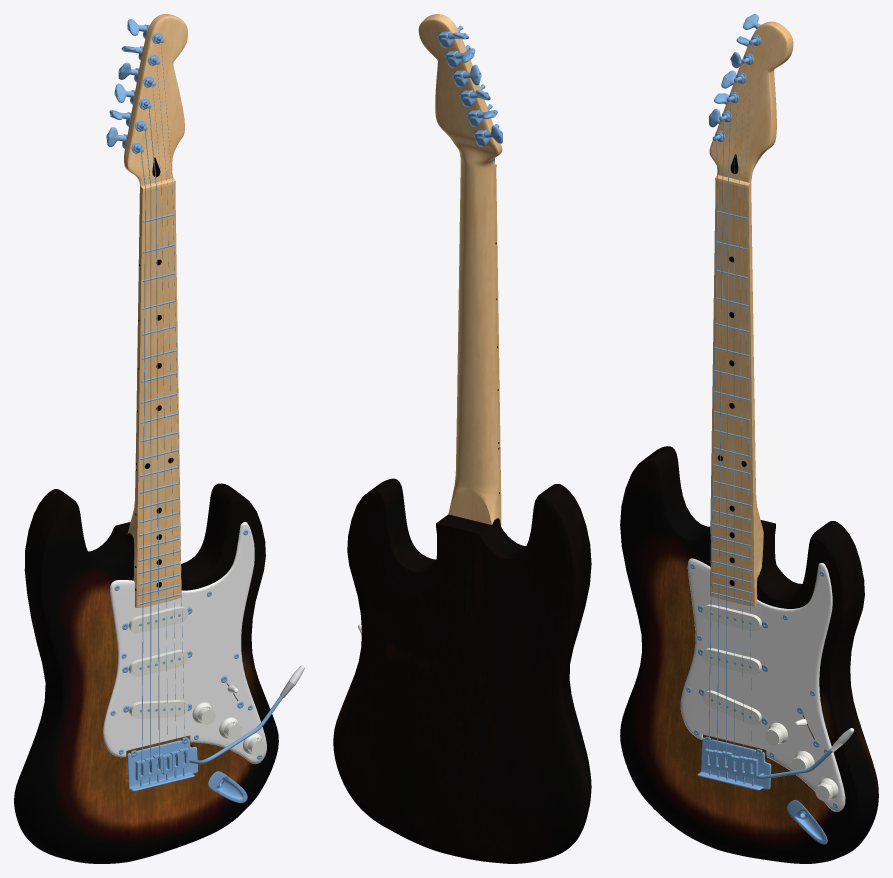
File: Guitar.fbx
3 views of the same model, side by side, from view 1: azimuth 30°, elevation 25°; view 2: azimuth 150°, elevation 25°; view 3: azimuth 330°, elevation 25° (orthographic).
Parts seen in each view (by area): view 1: Cube, Cube.025, Plane.029, Plane.039, Plane.030, Plane.012, Plane.016, Plane.018, Plane.038, Plane.040, Plane.045; view 2: Cube; view 3: Cube, Cube.025, Plane.029, Plane.030, Plane.018, Plane.012, Plane.016, Plane.038, Plane.039, Plane.040, Plane.045, Plane.034 (+2 smaller).
Part boxes in pixels (box(x1,y1,x2,y2)): Cube: box(14, 14, 278, 863); Cube.025: box(103, 522, 266, 764); Plane.029: box(127, 738, 198, 791); Plane.039: box(145, 130, 151, 769); Plane.030: box(135, 747, 189, 780); Plane.012: box(129, 606, 188, 633); Plane.016: box(128, 649, 188, 676); Plane.018: box(129, 700, 188, 718); Plane.038: box(149, 108, 159, 767); Plane.040: box(140, 152, 145, 772); Plane.045: box(208, 771, 247, 802); Cube: box(333, 14, 591, 863); Cube: box(620, 21, 878, 863); Cube.025: box(680, 558, 845, 811); Plane.029: box(697, 737, 771, 790); Plane.030: box(704, 748, 758, 778); Plane.018: box(702, 690, 761, 725); Plane.012: box(702, 604, 761, 631); Plane.016: box(702, 648, 761, 674); Plane.038: box(725, 101, 731, 764); Plane.039: box(717, 120, 724, 762); Plane.040: box(708, 140, 717, 761); Plane.045: box(787, 800, 827, 844); Plane.034: box(744, 45, 753, 768).
Size of the model in its own units: 307 by 943 by 83.53.
